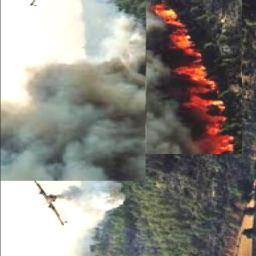Heavy smoke: (0, 55, 146, 181)
Large fire: (143, 0, 243, 156)
